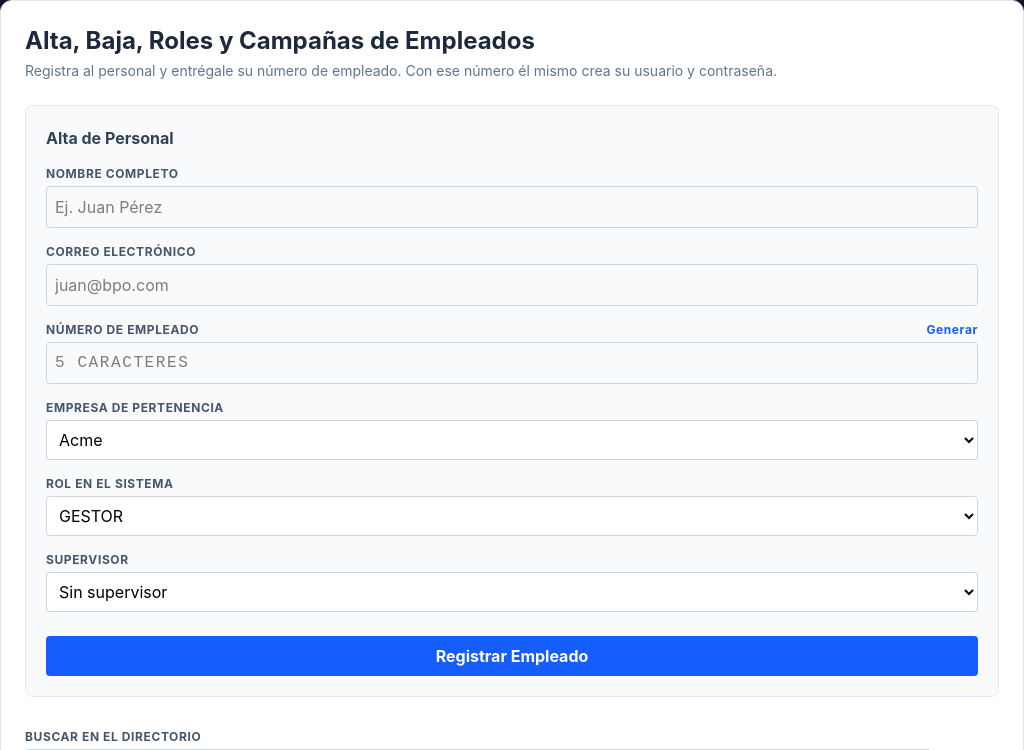
Test case: EmpleadosManager: alta de personal › rechaza un numero de empleado que no tenga 5 caracteres
Type "Nueva Persona" into the field with placeholder "Ej. Juan Pérez" at (512, 207), box [46, 186, 978, 228]
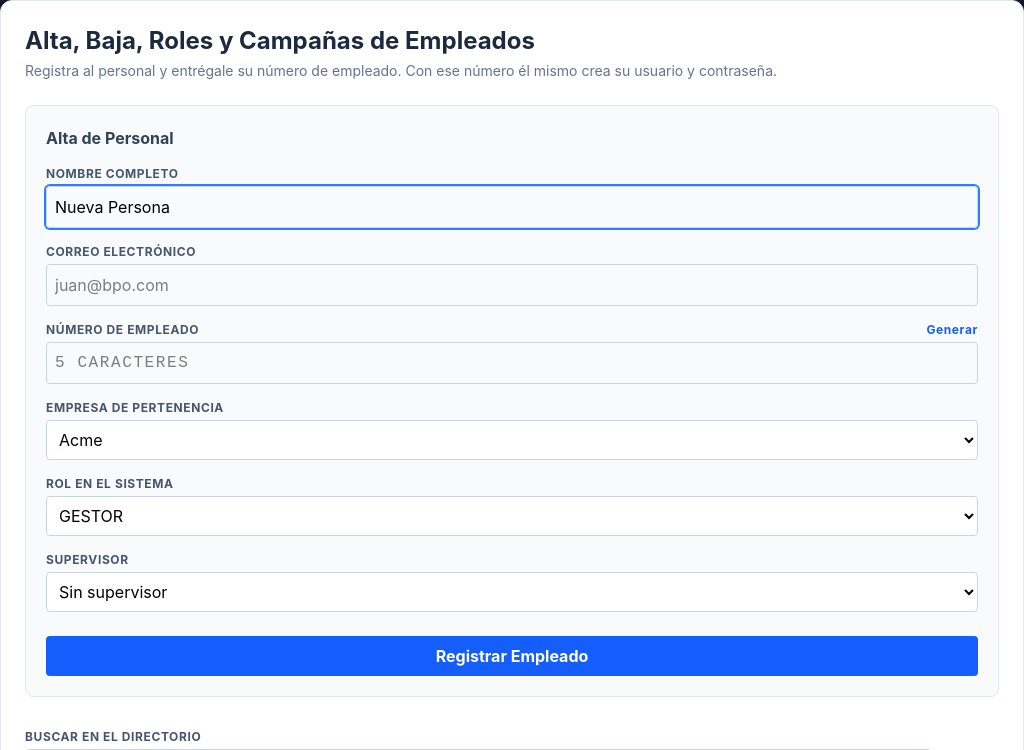
Type "nueva@acme.com" into the field with placeholder "juan@bpo.com" at (512, 285), box [46, 264, 978, 306]
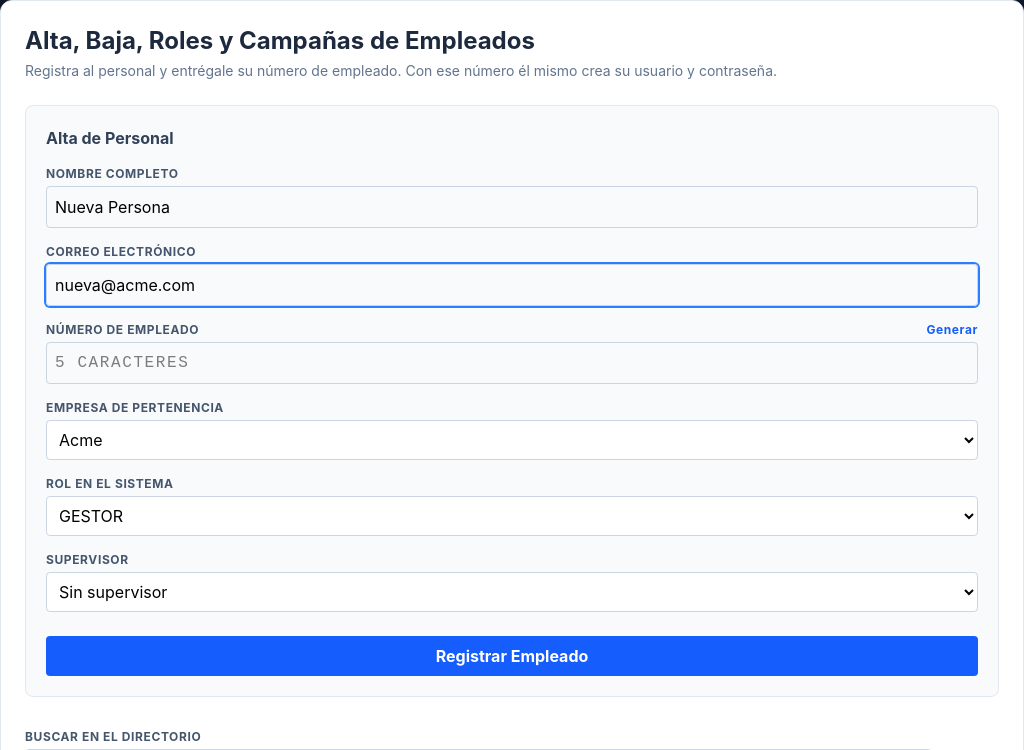
Type "AB1" into the field with placeholder "5 Caracteres" at (512, 363), box [46, 342, 978, 384]
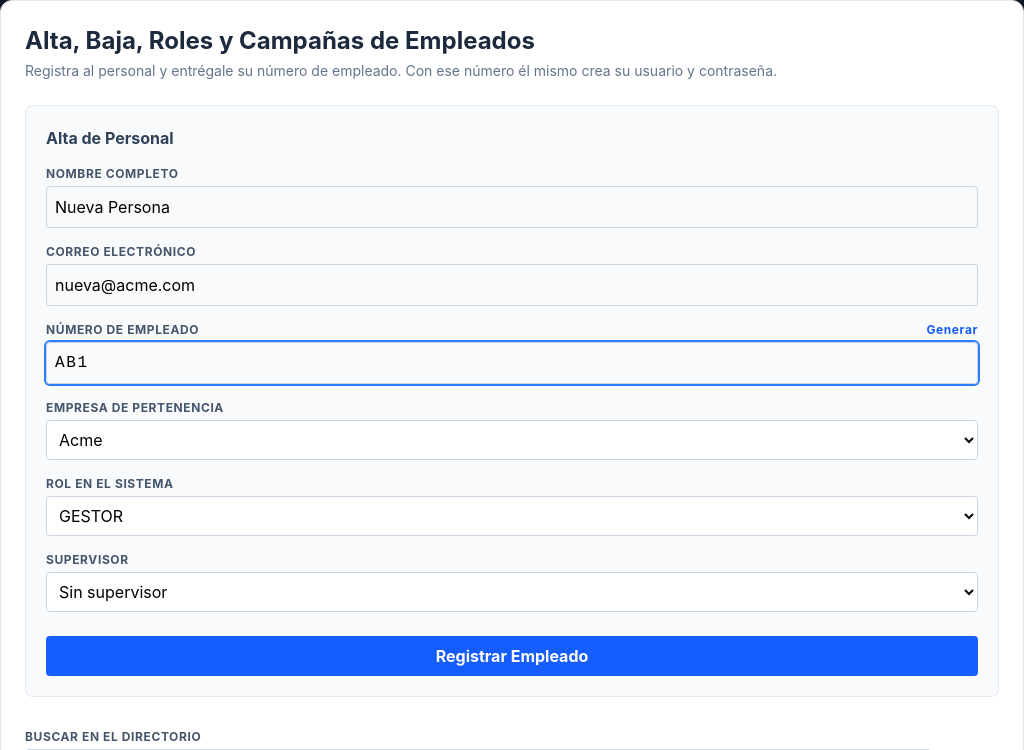
Select "Acme" in the dropdown below "Empresa de Pertenencia" at (512, 440), box [46, 420, 978, 460]
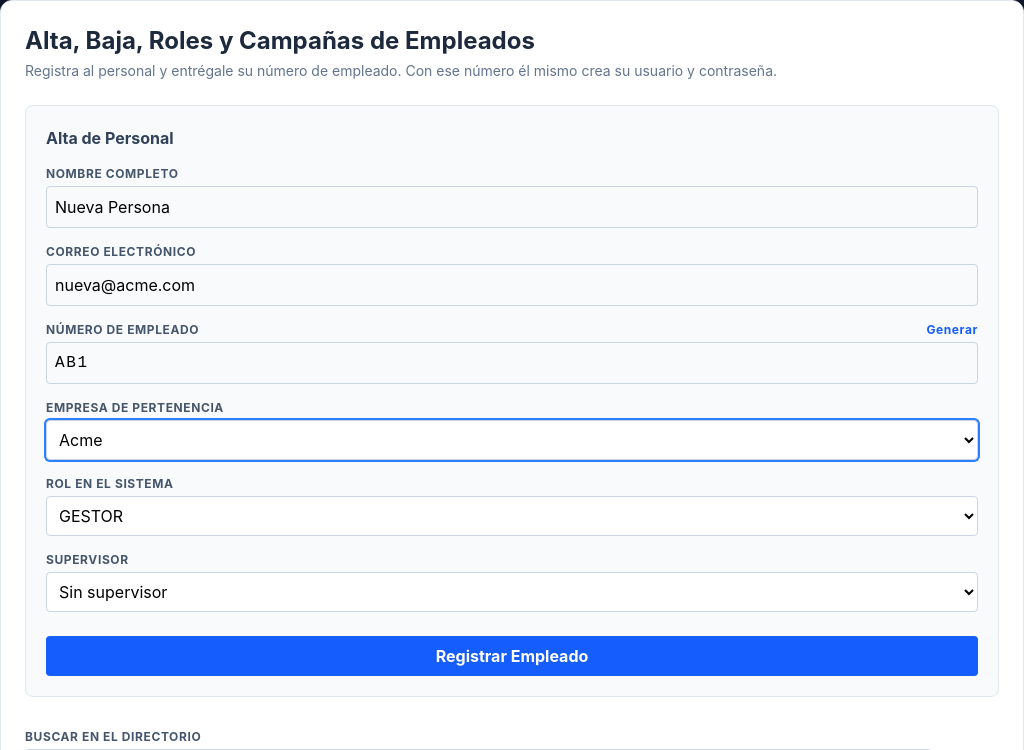
Select "GESTOR" in the dropdown below "Rol en el Sistema" at (512, 516), box [46, 496, 978, 536]
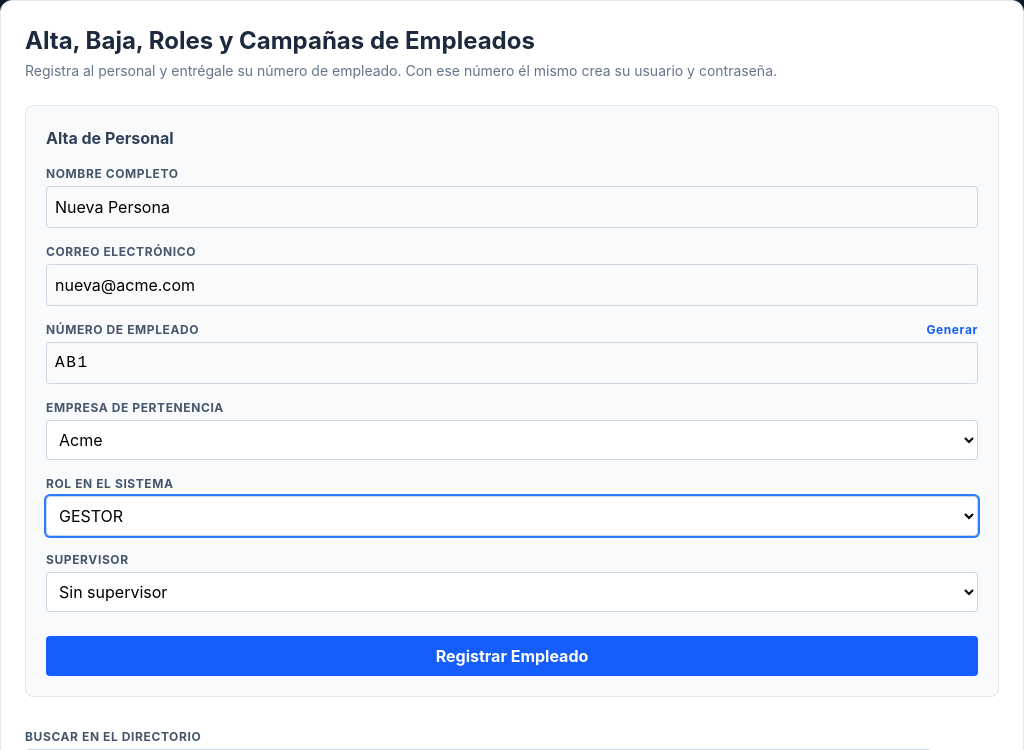
Click the button "Registrar Empleado" at (512, 656), box [46, 636, 978, 676]
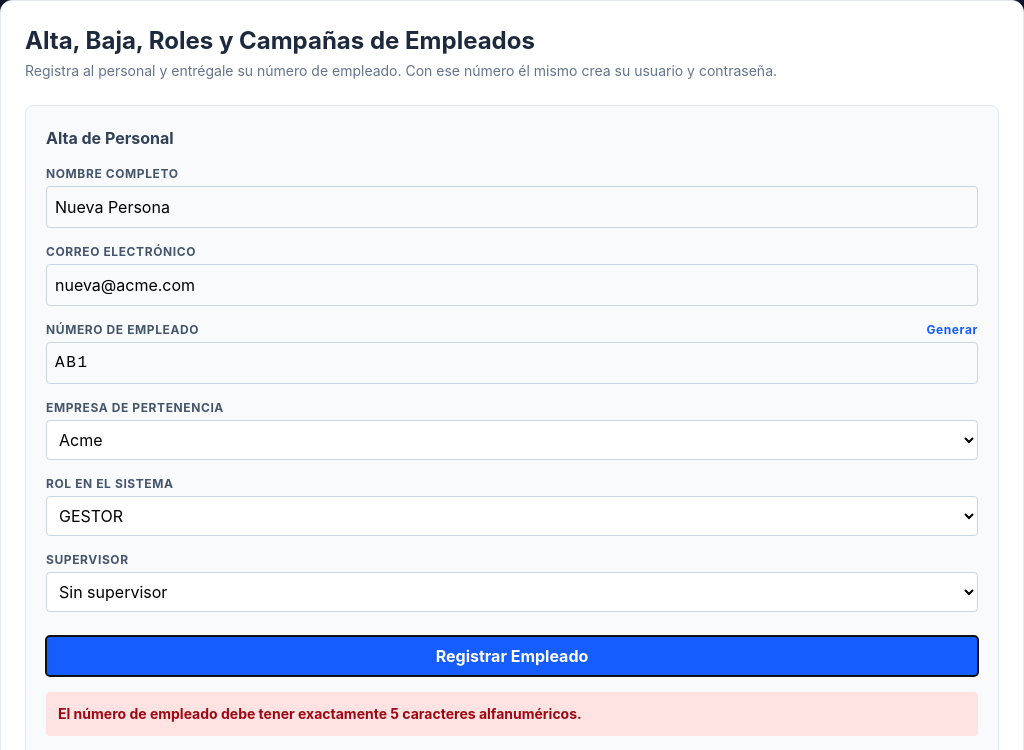
Result: the text "exactamente 5 caracteres" is shown at [58, 705, 582, 722]
